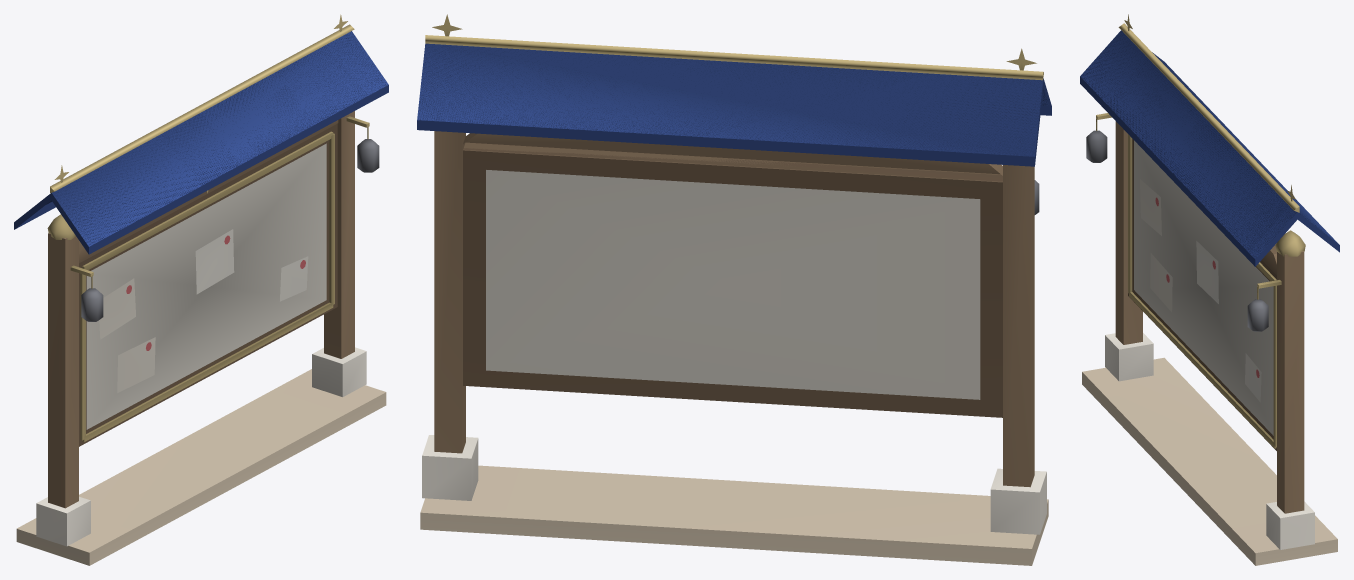
The model's file is board_lite.glb.
3 renders of one model, left to right at view 1: azimuth 30°, elevation 25°; view 2: azimuth 150°, elevation 25°; view 3: azimuth 270°, elevation 25°, orthographic. The views are drawn at different scales.
Parts seen in each view (by area): view 1: Board_props, Board_roof, Board_stone; view 2: Board_props, Board_roof, Board_stone; view 3: Board_props, Board_stone, Board_roof.
Boxes of the visible parts, bbox=[...] form: Board_props: bbox=[47, 14, 379, 508]; Board_roof: bbox=[14, 31, 388, 254]; Board_stone: bbox=[16, 347, 386, 565]; Board_props: bbox=[425, 14, 1043, 487]; Board_roof: bbox=[417, 43, 1051, 166]; Board_stone: bbox=[420, 435, 1048, 565]; Board_props: bbox=[1086, 14, 1305, 513]; Board_stone: bbox=[1082, 333, 1337, 565]; Board_roof: bbox=[1080, 30, 1339, 266].
Size of the model in its own units: 4 by 3.48 by 2.22.
